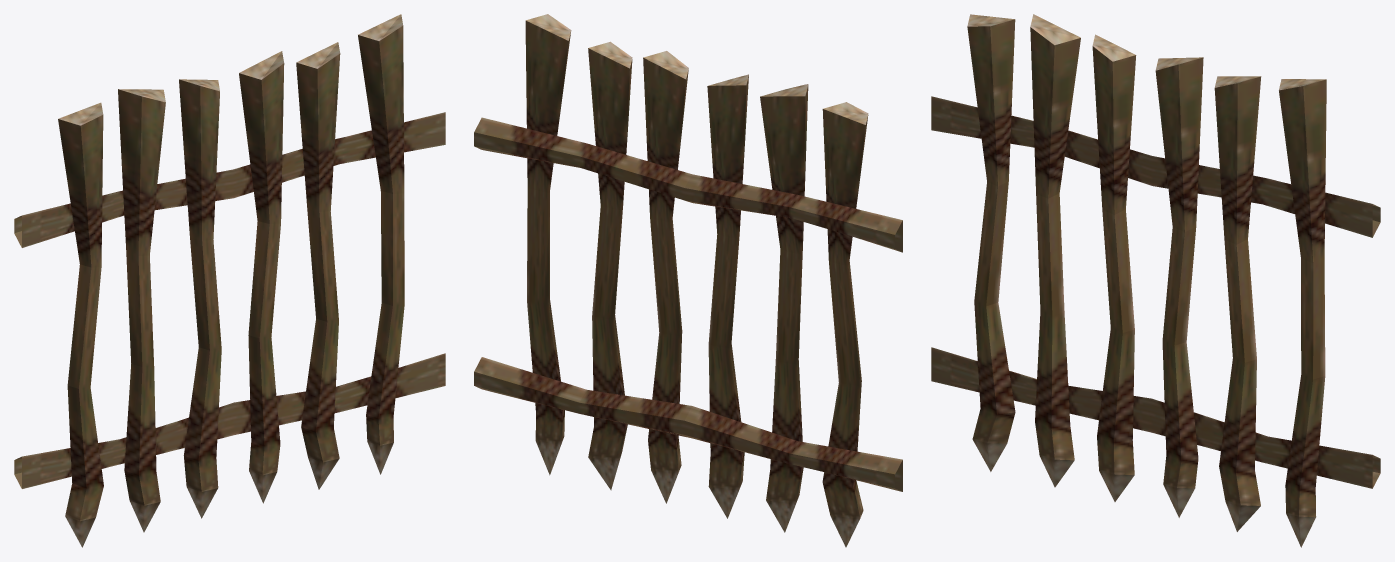
File: WoodDoor.fbx
3 views of the same model, side by side, from view 1: azimuth 30°, elevation 25°; view 2: azimuth 150°, elevation 25°; view 3: azimuth 330°, elevation 25° (orthographic). The views are drawn at different scales.
Visible parts, largest first — view 1: n0b0; view 2: n0b0; view 3: n0b0.
Part boxes in pixels (x1,y1,x2,y2): n0b0: (14, 14, 445, 547); n0b0: (474, 14, 902, 547); n0b0: (931, 14, 1380, 547).
Bounding box in the file's own units: 8.13 × 8.32 × 0.6809.
1 material, 1 textured.
